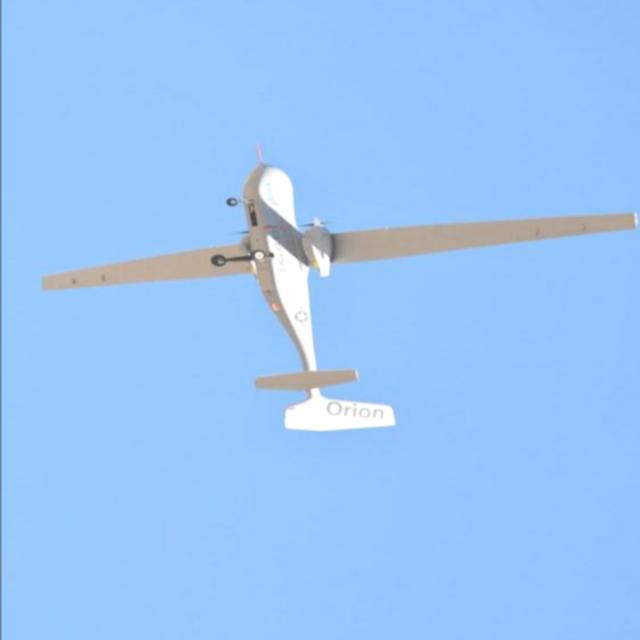plane: (41, 140, 640, 434)
